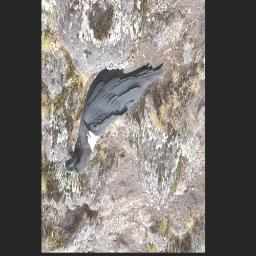Crow: (64, 60, 166, 174)
